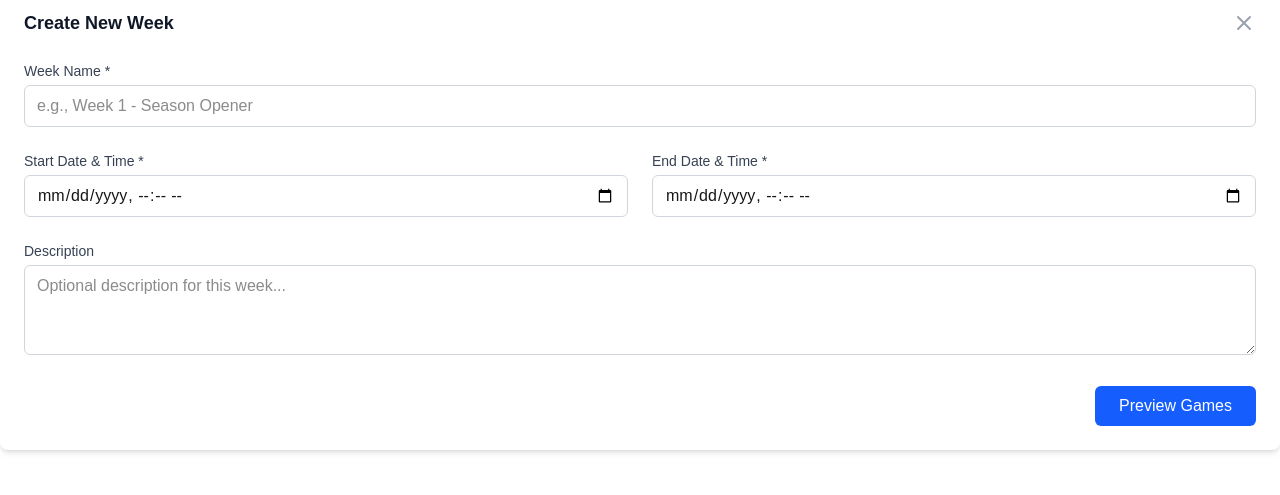
Test case: WeekCreationWizard › Form Step › should validate date range
The width and height of the screenshot is (1280, 495).
Type "Week 1" into the field labelled "Week Name *".
click(640, 106); type("Week 1")  # box 24,85 -> 1256,127
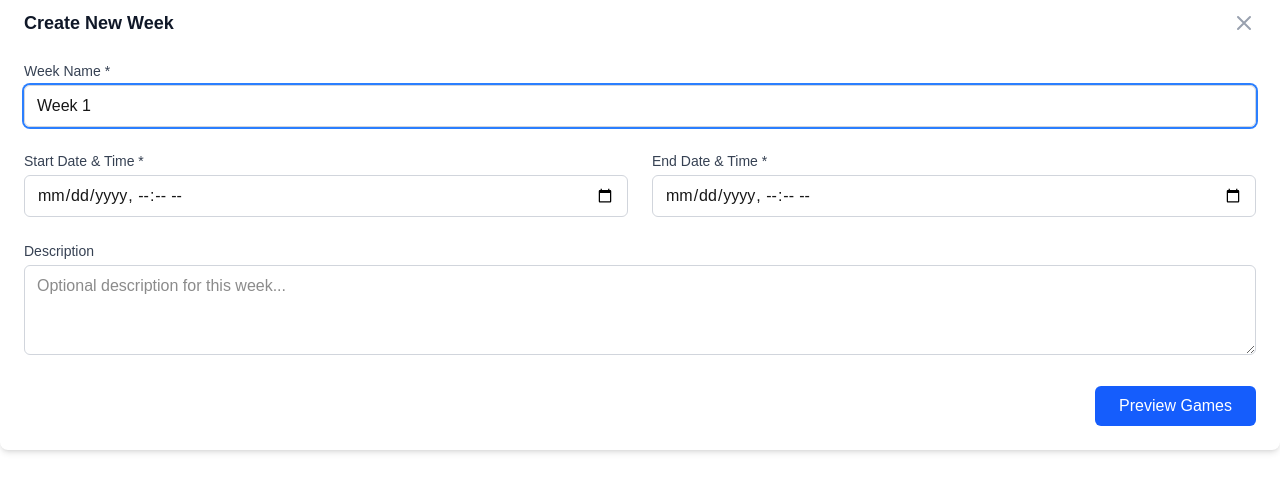
Type "2024-01-07T00:00" into the field labelled "Start Date & Time *".
click(326, 196); type("2024-01-07T00:00")  # box 24,175 -> 628,217
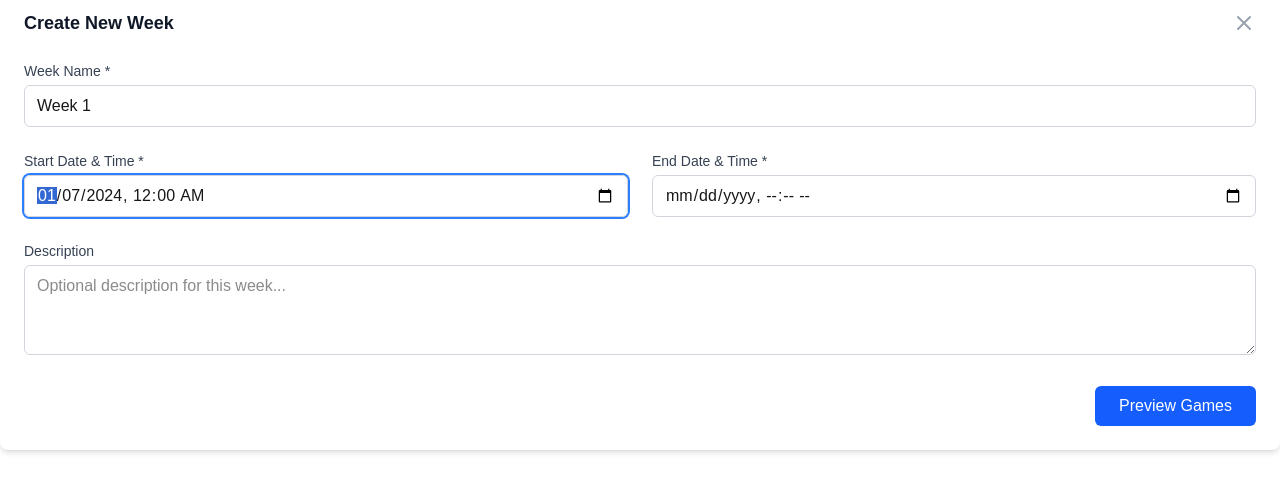
Type "2024-01-01T23:59" into the field labelled "End Date & Time *".
click(954, 196); type("2024-01-01T23:59")  # box 652,175 -> 1256,217
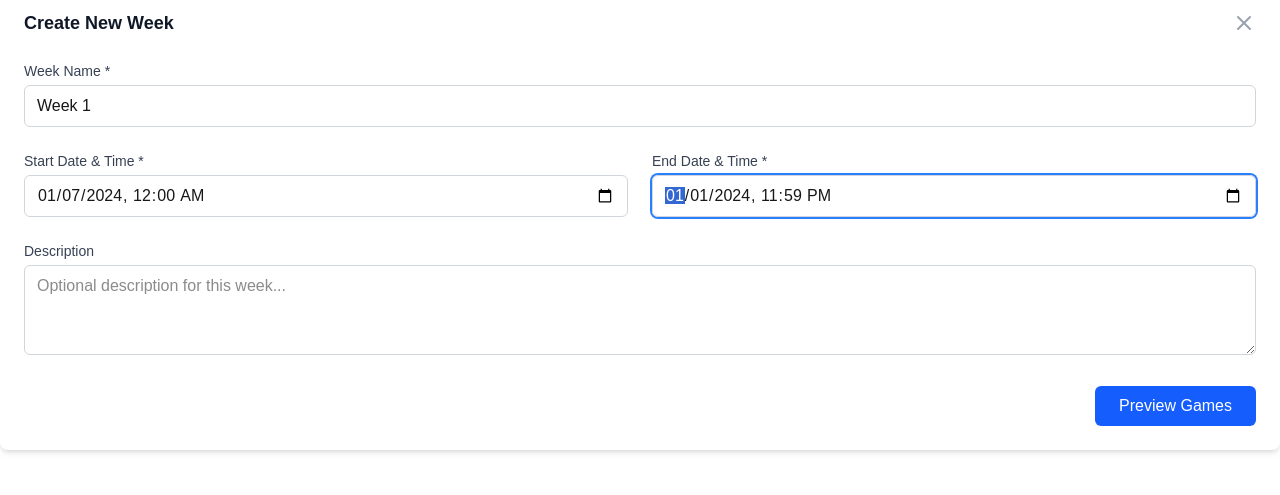
Click the button "Preview Games".
click(1176, 406)  # box 1095,386 -> 1256,426
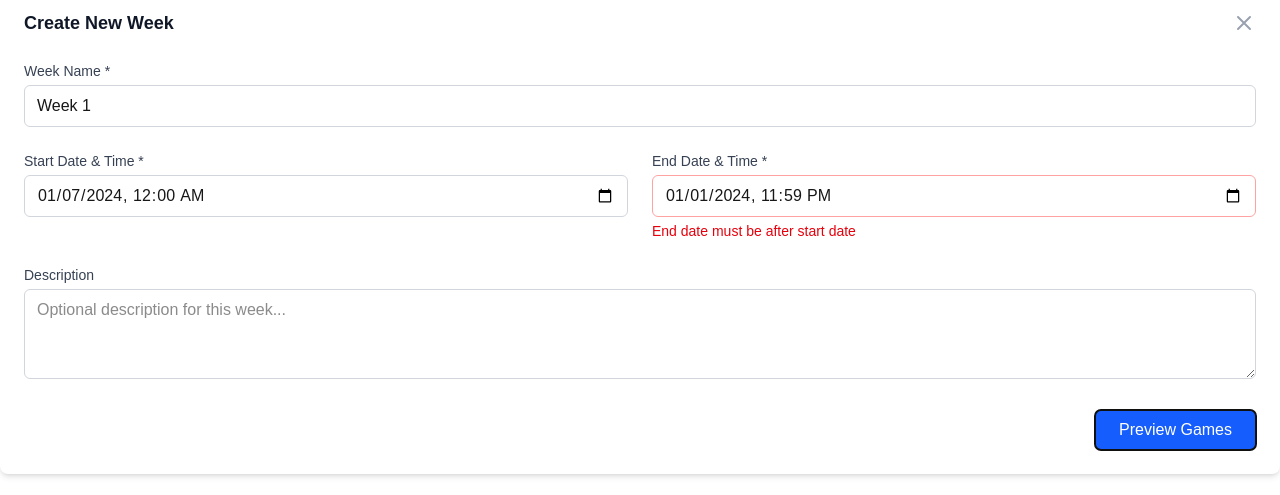
Expected: the text "End date must be after start date" is shown, 652,223 -> 856,239
